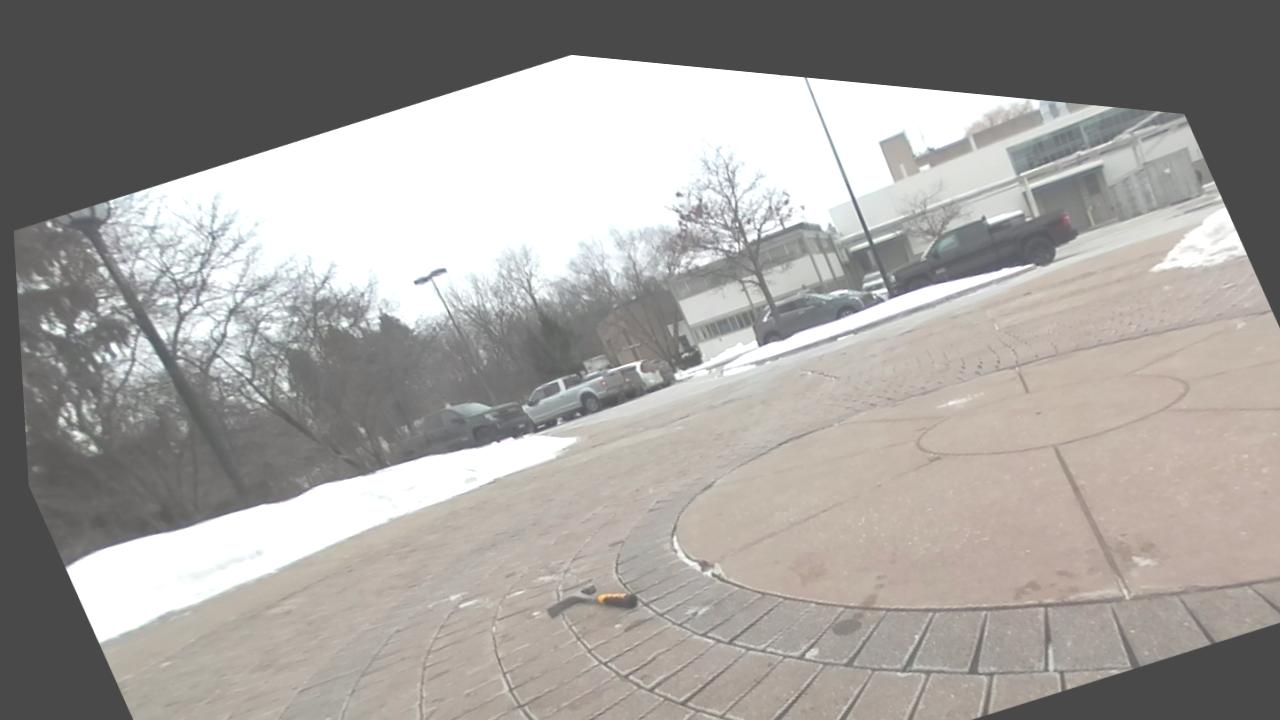pick: (546, 584, 638, 617)
